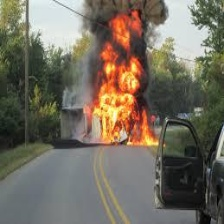fire: (97, 11, 144, 141)
smoke: (90, 1, 167, 10)
